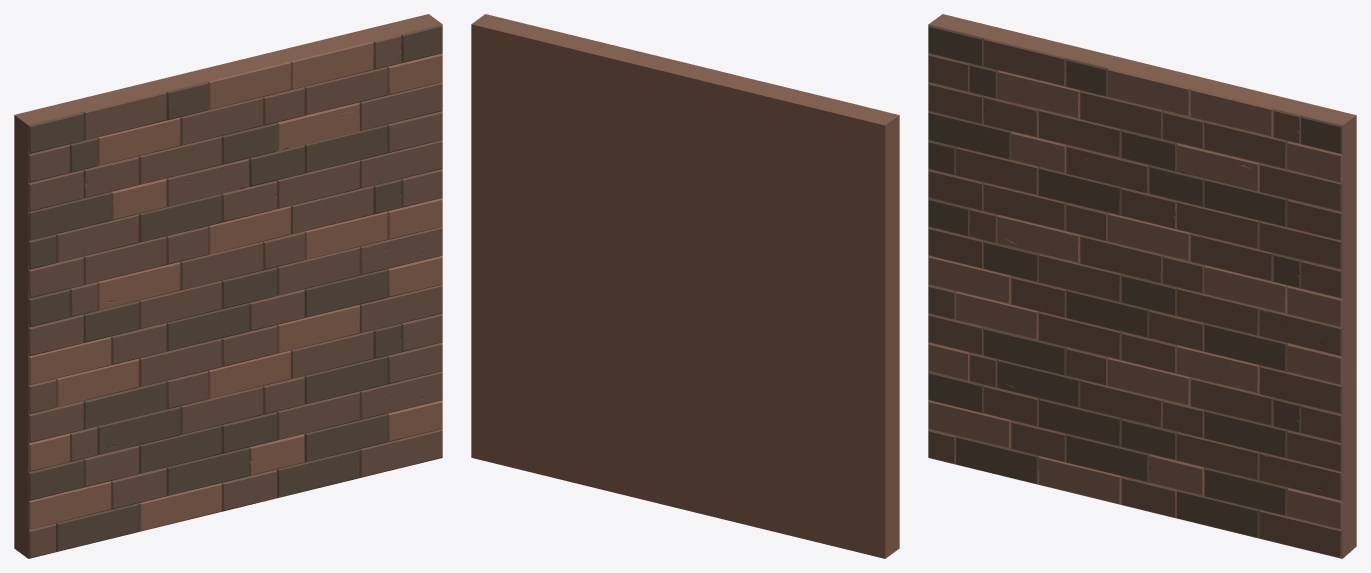
Rendered from victorian_wall_brick_1_singlesided.fbx.
3 renders of one model, left to right at view 1: azimuth 30°, elevation 25°; view 2: azimuth 150°, elevation 25°; view 3: azimuth 330°, elevation 25°, orthographic.
Parts seen in each view (by area): view 1: Cube.169; view 2: Cube.169; view 3: Cube.169.
Part boxes in pixels (x1=…): Cube.169: x1=14, y1=14, x2=442, y2=558; Cube.169: x1=471, y1=14, x2=899, y2=558; Cube.169: x1=928, y1=14, x2=1356, y2=558.
Size of the model in its own units: 300 by 300 by 20.
